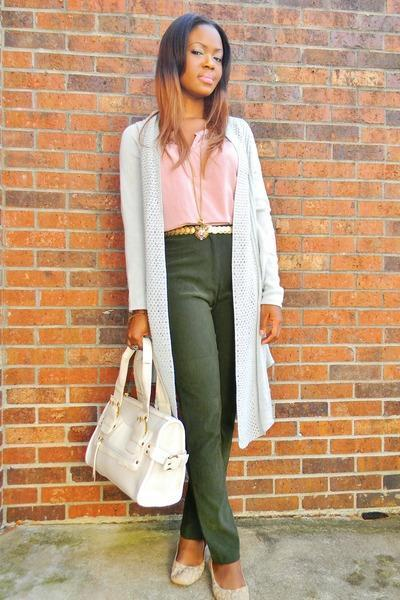bag: (67, 346, 188, 506)
jacket: (120, 116, 283, 443)
pants: (164, 231, 251, 563)
shirt: (153, 132, 238, 227)
shoe: (171, 560, 248, 599)
